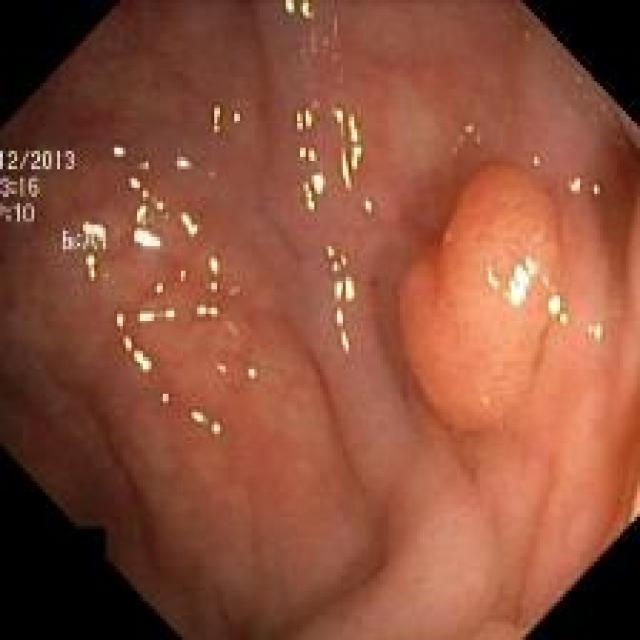Polyps: (399, 166, 561, 430)
